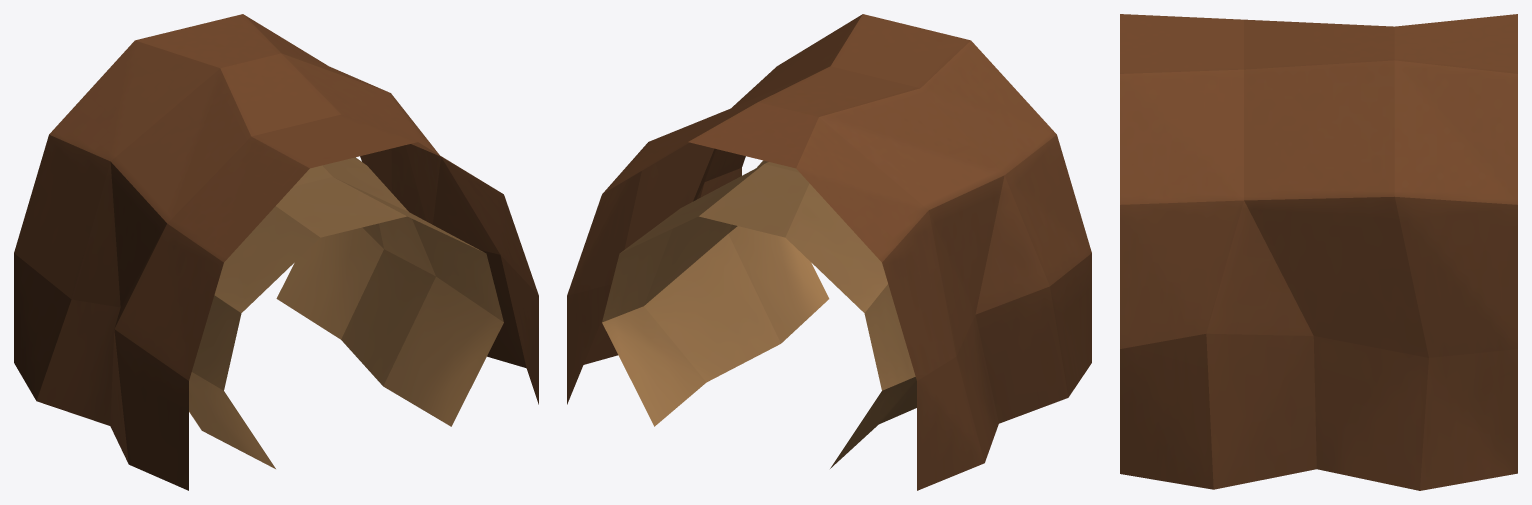
Rendered from Tronc_Perce_C2.FBX.
3 views of the same model, side by side, from view 1: azimuth 30°, elevation 25°; view 2: azimuth 150°, elevation 25°; view 3: azimuth 270°, elevation 25° (orthographic). The views are drawn at different scales.
Parts seen in each view (by area): view 1: TroncPerce_C2; view 2: TroncPerce_C2; view 3: TroncPerce_C2.
Boxes of the visible parts, box(x1,y1,x2,y2) form: TroncPerce_C2: box(14, 14, 538, 490); TroncPerce_C2: box(567, 14, 1091, 490); TroncPerce_C2: box(1120, 14, 1517, 490).
Bounding box in the file's own units: 2.31 × 1.62 × 1.73.
